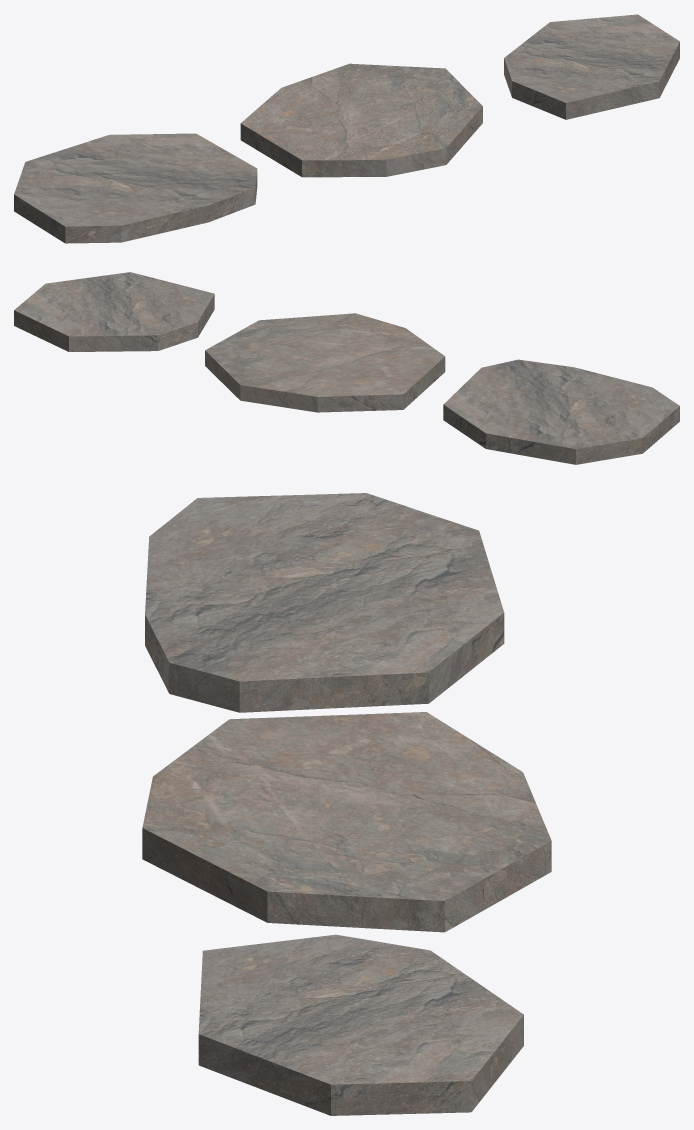
File: pathway.fbx
3 views of the same model, one above another, from view 1: azimuth 30°, elevation 25°; view 2: azimuth 150°, elevation 25°; view 3: azimuth 270°, elevation 25° (orthographic). The views are drawn at different scales.
Visible parts, largest first — view 1: Plane.001, Plane.003, Plane.004; view 2: Plane.001, Plane.003, Plane.004; view 3: Plane.001, Plane.003, Plane.004.
Boxes of the visible parts, left/top/right/bottom form: Plane.001: left=240, top=63, right=482, bottom=177; Plane.003: left=14, top=133, right=257, bottom=243; Plane.004: left=504, top=14, right=679, bottom=119; Plane.001: left=205, top=313, right=445, bottom=412; Plane.003: left=443, top=359, right=679, bottom=464; Plane.004: left=14, top=272, right=214, bottom=351; Plane.001: left=142, top=712, right=551, bottom=932; Plane.003: left=145, top=493, right=504, bottom=712; Plane.004: left=198, top=934, right=523, bottom=1115.
Bounding box in the file's own units: 427 × 10.53 × 125.
Materials: 1 (1 with a texture image).
